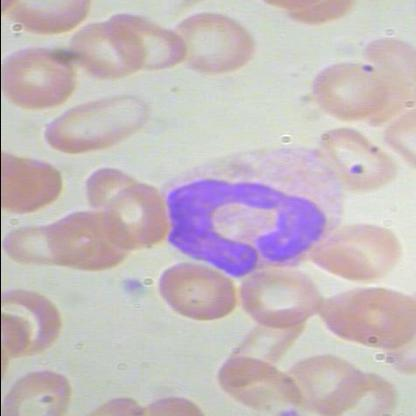RBC: (316, 279, 415, 353), (303, 219, 403, 292), (41, 92, 153, 156), (164, 12, 256, 78), (155, 256, 240, 326), (235, 260, 319, 330), (209, 357, 303, 415), (305, 60, 391, 122), (1, 40, 76, 111), (316, 127, 396, 192), (70, 23, 148, 83), (101, 181, 165, 253), (0, 222, 100, 264)
WBC: (158, 144, 342, 286)
